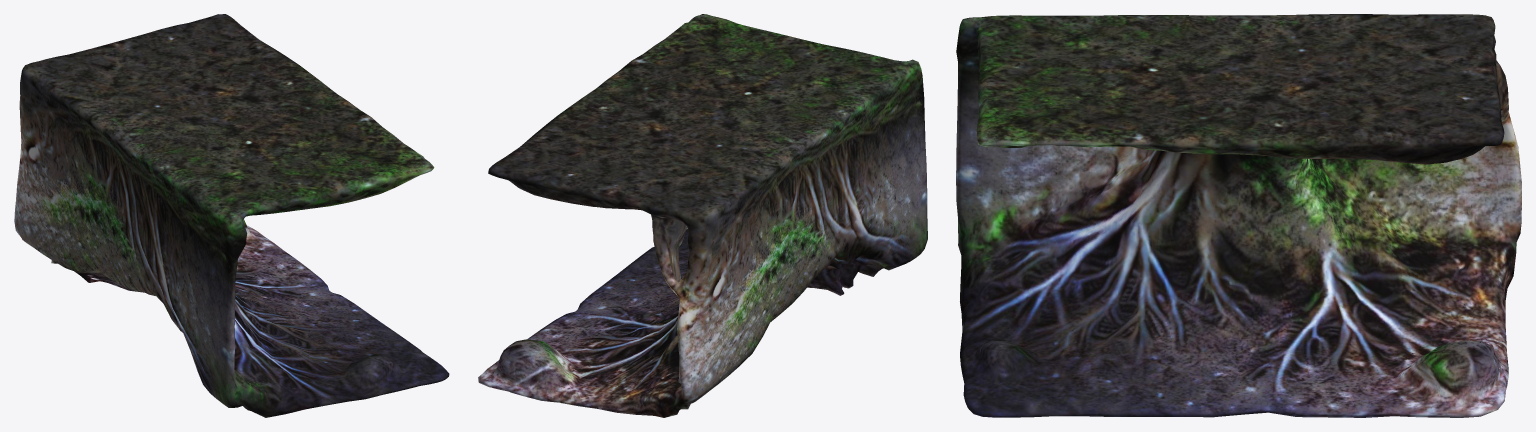
The model's file is e2afefacbfab_74a4747b371a_a_cave_tunnel_cover.glb.
The picture shows the model from 3 angles, left to right: view 1: azimuth 30°, elevation 25°; view 2: azimuth 150°, elevation 25°; view 3: azimuth 270°, elevation 25°; orthographic projection. The views are drawn at different scales.
Parts seen in each view (by area): view 1: mesh; view 2: mesh; view 3: mesh.
Part boxes in pixels (left/top/right/bottom): mesh: left=14, top=14, right=449, bottom=417; mesh: left=478, top=14, right=927, bottom=417; mesh: left=956, top=14, right=1521, bottom=417.
Bounding box in the file's own units: 0.5854 × 0.5226 × 0.9915.
Materials: 1 (1 with a texture image).
